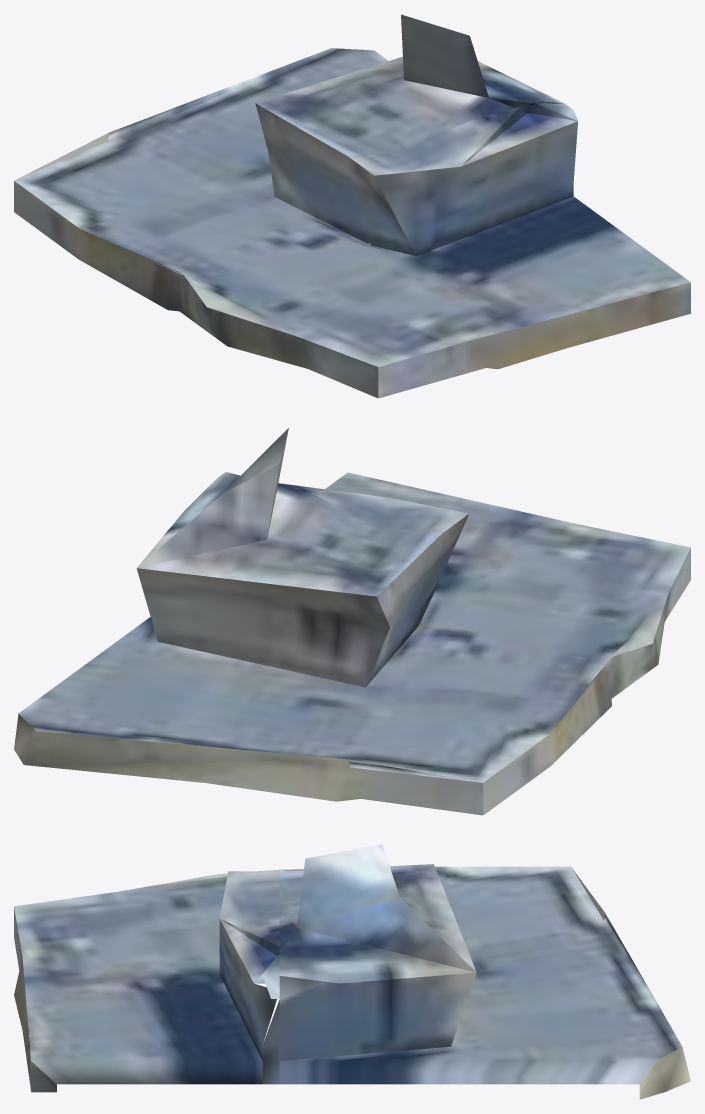
3 renders of one model, top to bottom at view 1: azimuth 30°, elevation 25°; view 2: azimuth 150°, elevation 25°; view 3: azimuth 270°, elevation 25°, orthographic. The views are drawn at different scales.
Visible parts, largest first — view 1: 3043627270436170755_0; view 2: 3043627270436170755_0; view 3: 3043627270436170755_0.
Boxes of the visible parts, box(x1,y1,x2,y2) form: 3043627270436170755_0: box(14, 14, 690, 398); 3043627270436170755_0: box(14, 428, 690, 815); 3043627270436170755_0: box(14, 844, 690, 1099).
Bounding box in the file's own units: 16.57 × 8.01 × 24.37.
1 material, 1 textured.
